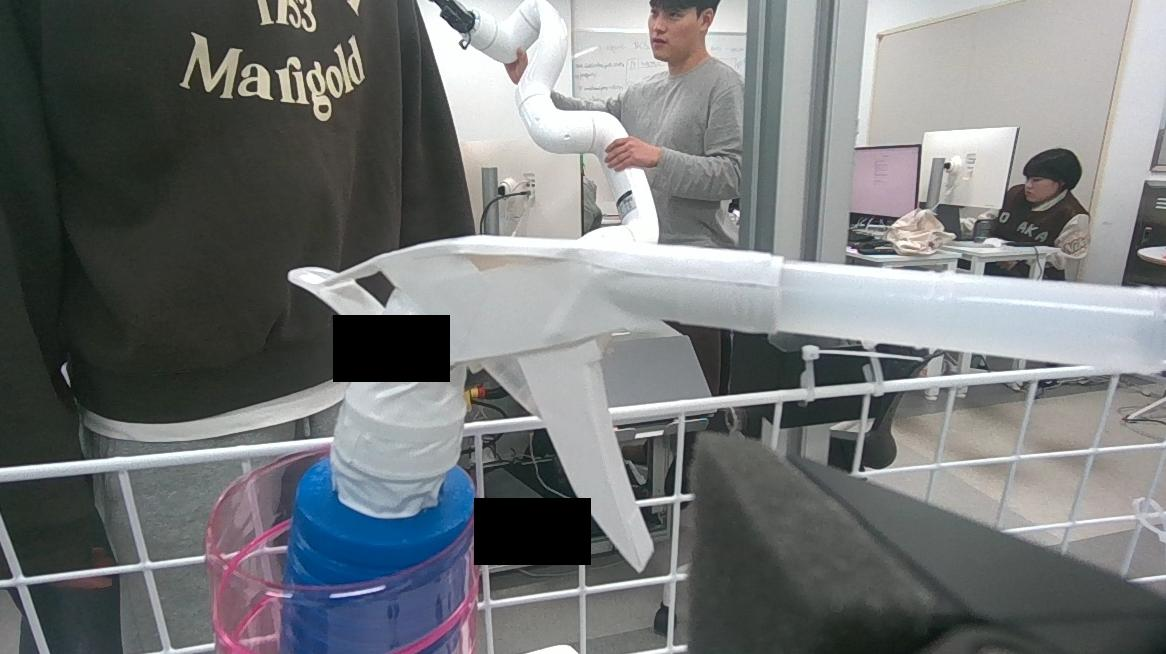Nozzle: (272, 236, 789, 651)
